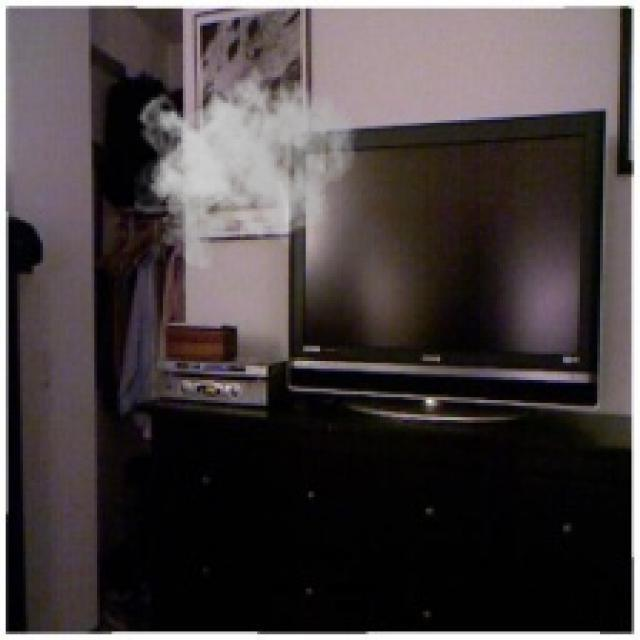Smoke: (134, 57, 357, 269)
